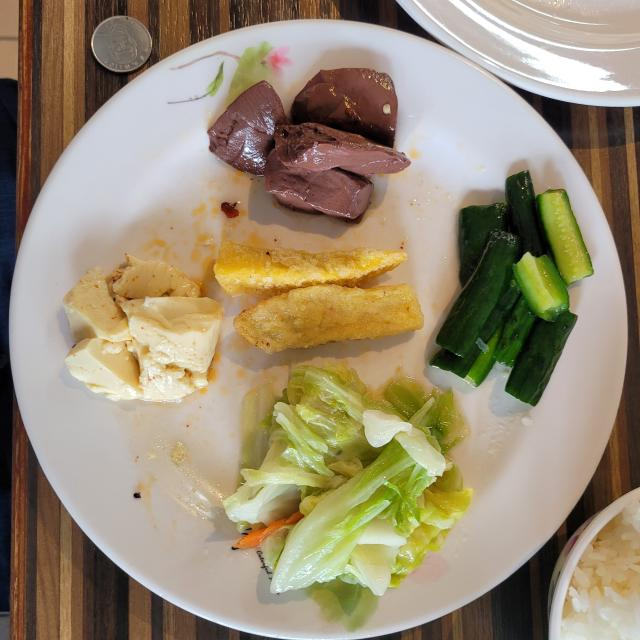cabbage: (224, 365, 471, 595)
coin: (91, 16, 151, 72)
cucumber: (430, 171, 594, 405)
pig blood curd: (209, 69, 410, 221)
